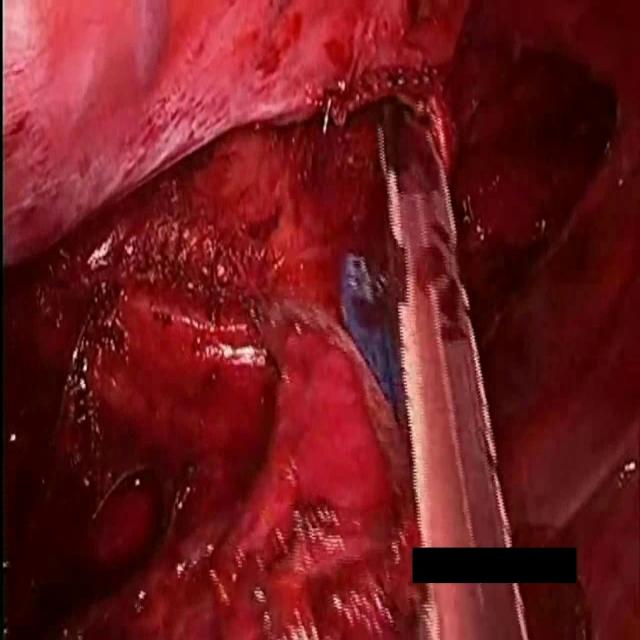surgical-area: (0, 0, 640, 639), (522, 540, 640, 639)
surgical-tool: (380, 94, 515, 547), (425, 587, 531, 639)
